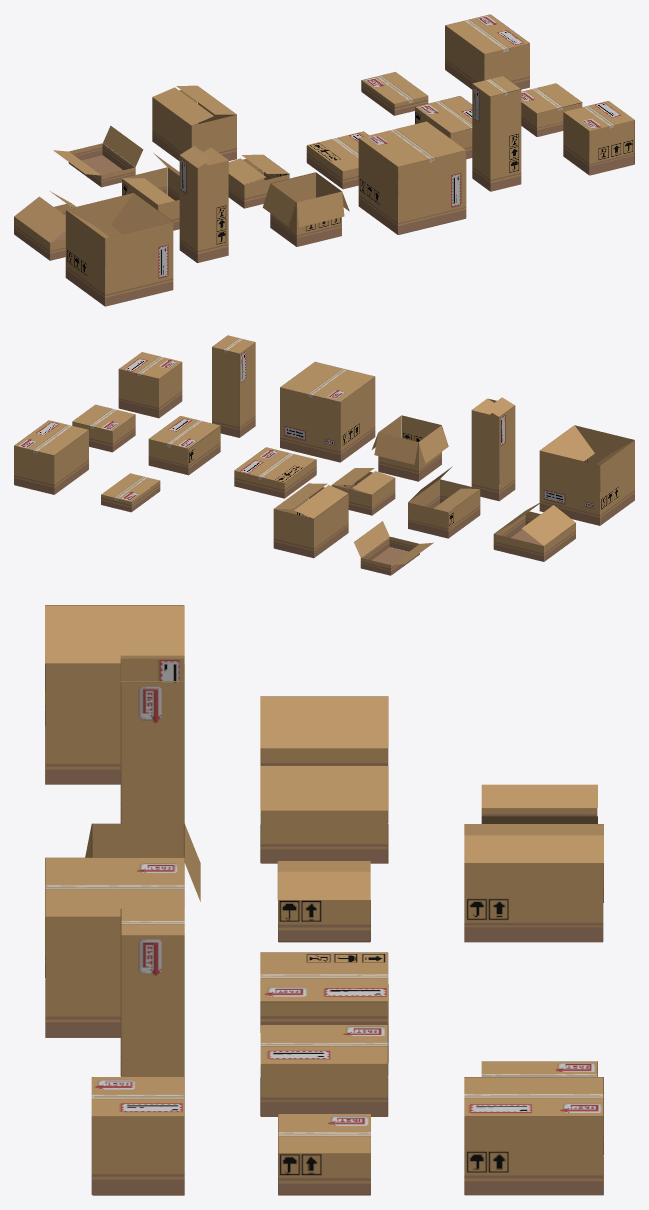
File: BOXES_FBX.fbx
The picture shows the model from 3 angles, top to bottom: view 1: azimuth 30°, elevation 25°; view 2: azimuth 150°, elevation 25°; view 3: azimuth 270°, elevation 25°; orthographic projection. The views are drawn at different scales.
Parts seen in each view (by area): view 1: plane_5, cuboid_6, plane_3, cuboid_4, plane_1, cuboid_2, plane, cuboid_1, plane_2, plane_4, cuboid, cuboid_8 (+4 smaller); view 2: cuboid_6, plane_5, plane_1, cuboid_2, plane_3, cuboid_4, plane, cuboid_1, plane_6, cuboid_3, plane_4, cuboid_7 (+4 smaller); view 3: cuboid_6, plane_5, cuboid_2, plane_1, plane_6, cuboid_3, cuboid_1, plane_3, cuboid_4, cuboid_7, plane_4, cuboid_8 (+4 smaller).
Part boxes in pixels (x1=…): plane_5: x1=65, y1=193, x2=173, y2=306; cuboid_6: x1=358, y1=121, x2=466, y2=234; plane_3: x1=179, y1=146, x2=228, y2=262; cuboid_4: x1=472, y1=76, x2=521, y2=191; plane_1: x1=152, y1=85, x2=236, y2=160; cuboid_2: x1=445, y1=14, x2=529, y2=89; plane: x1=262, y1=172, x2=349, y2=246; cuboid_1: x1=563, y1=101, x2=634, y2=175; plane_2: x1=53, y1=125, x2=143, y2=187; plane_4: x1=14, y1=191, x2=75, y2=260; cuboid: x1=521, y1=83, x2=582, y2=136; cuboid_8: x1=228, y1=154, x2=289, y2=208; cuboid_6: x1=280, y1=361, x2=375, y2=462; plane_5: x1=539, y1=425, x2=634, y2=525; plane_1: x1=273, y1=483, x2=348, y2=558; cuboid_2: x1=14, y1=420, x2=88, y2=494; plane_3: x1=471, y1=397, x2=515, y2=501; cuboid_4: x1=212, y1=335, x2=255, y2=437; plane: x1=371, y1=415, x2=448, y2=481; cuboid_1: x1=118, y1=352, x2=182, y2=418; plane_6: x1=408, y1=466, x2=480, y2=538; cuboid_3: x1=148, y1=416, x2=220, y2=475; plane_4: x1=493, y1=500, x2=575, y2=561; cuboid_7: x1=234, y1=447, x2=316, y2=498; cuboid_6: x1=45, y1=857, x2=184, y2=1037; plane_5: x1=45, y1=605, x2=184, y2=784; cuboid_2: x1=464, y1=1077, x2=603, y2=1195; plane_1: x1=464, y1=824, x2=603, y2=942; plane_6: x1=260, y1=766, x2=388, y2=863; cuboid_3: x1=260, y1=1024, x2=388, y2=1116; cuboid_1: x1=91, y1=1077, x2=184, y2=1195; plane_3: x1=120, y1=655, x2=184, y2=823; cuboid_4: x1=120, y1=908, x2=184, y2=1076; cuboid_7: x1=260, y1=952, x2=388, y2=1032; plane_4: x1=260, y1=696, x2=388, y2=765; cuboid_8: x1=277, y1=861, x2=370, y2=942.
Size of the model in its own units: 1194 by 212 by 600.
1 material, 1 textured.
